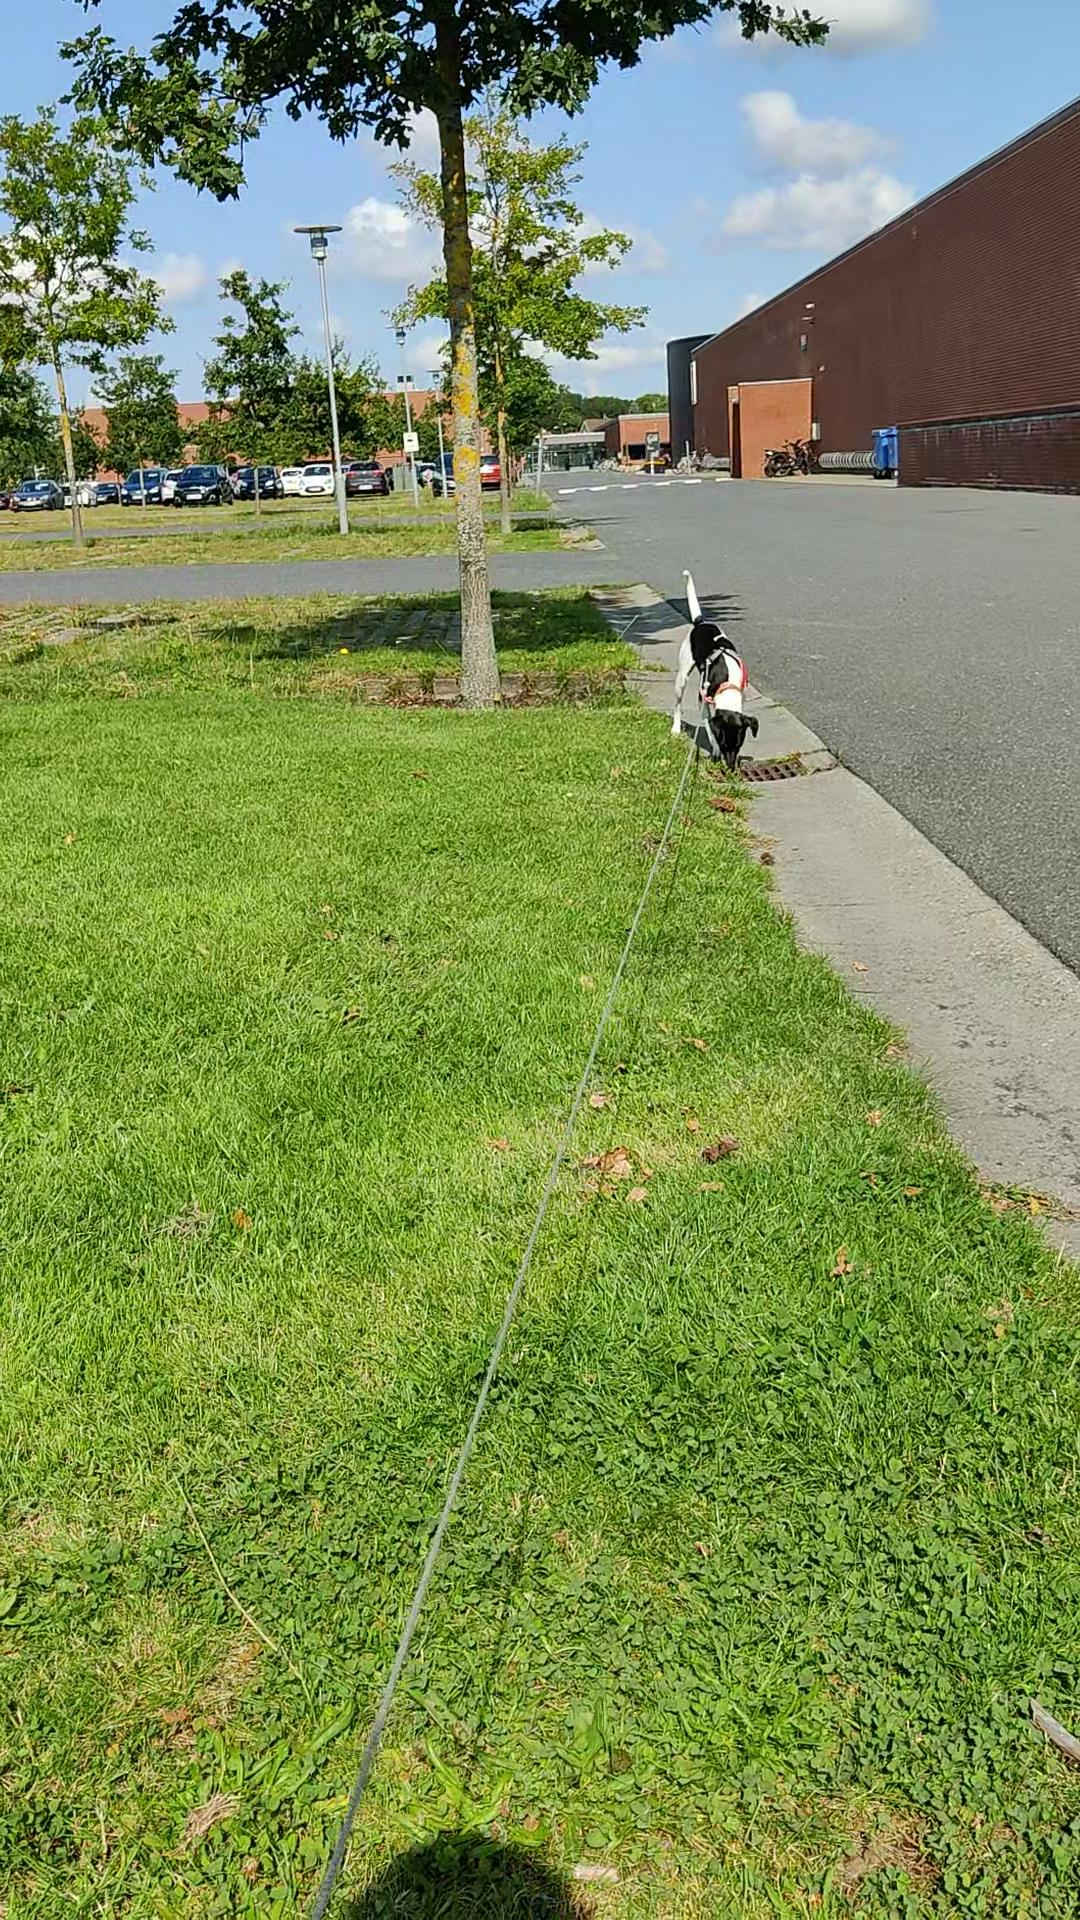Dog: (657, 556, 767, 778)
